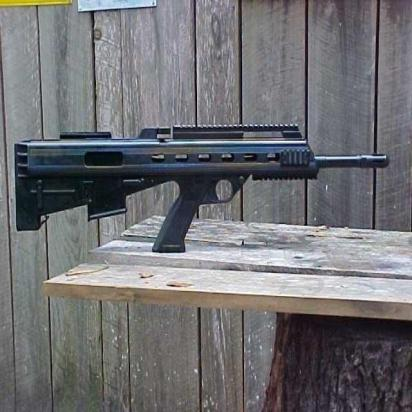Gun: (6, 113, 391, 273)
